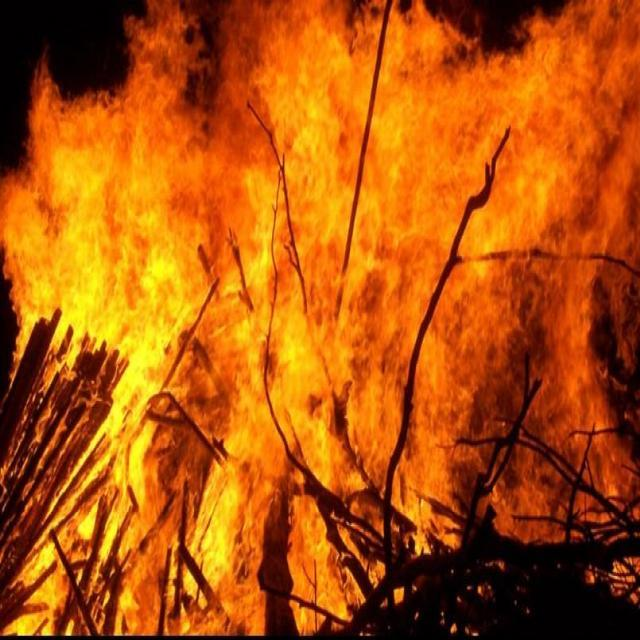Fire: (1, 1, 636, 638)
